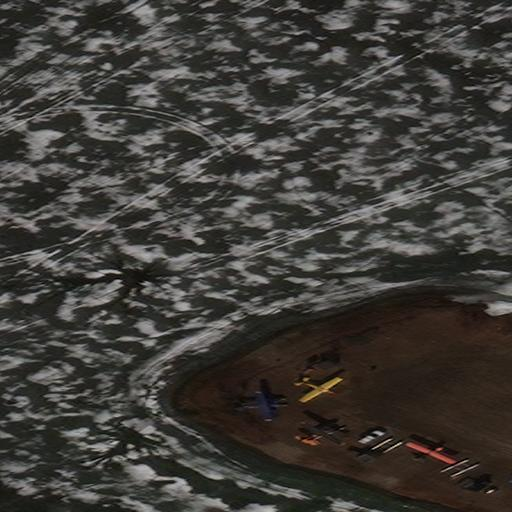Small Civil Transport: (234, 390, 287, 421), (299, 378, 344, 404), (409, 441, 457, 461), (302, 423, 345, 443)
